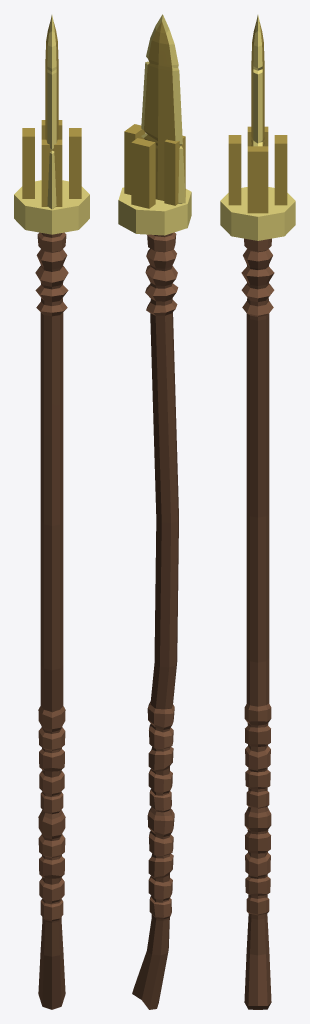
File: spear_golden.glb
3 views of the same model, side by side, from view 1: azimuth 90°, elevation 25°; view 2: azimuth 150°, elevation 25°; view 3: azimuth 270°, elevation 25° (orthographic).
Parts seen in each view (by area): view 1: spear_golden; view 2: spear_golden; view 3: spear_golden.
Boxes of the visible parts, left/top/right/bottom form: spear_golden: left=14, top=15, right=89, bottom=1009; spear_golden: left=118, top=14, right=191, bottom=1009; spear_golden: left=220, top=15, right=295, bottom=1009.
Bounding box in the file's own units: 0.2409 × 3.5 × 0.2409.
